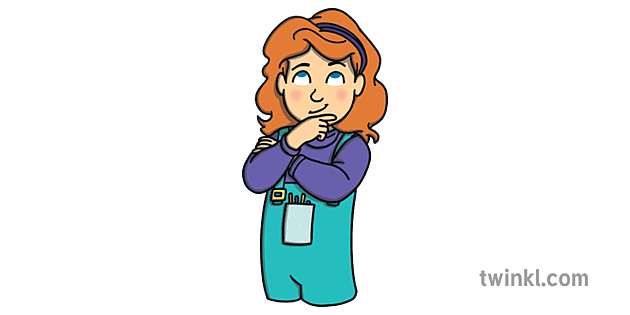person: (240, 8, 393, 315)
